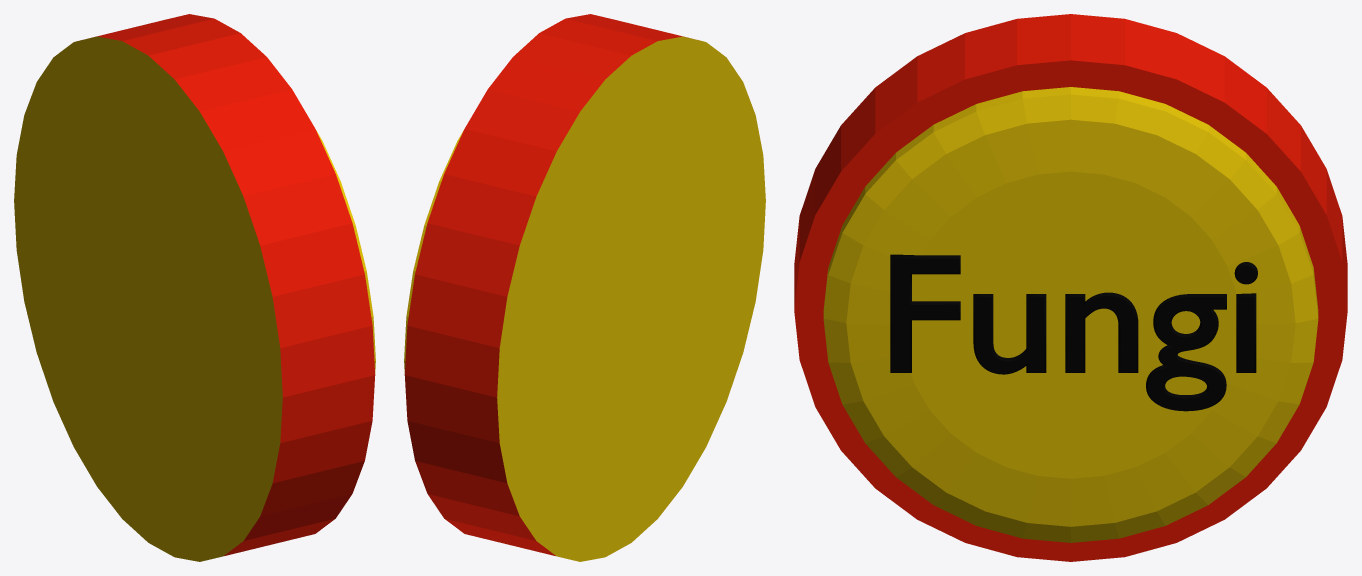
File: fungibutton.gltf
The picture shows the model from 3 angles, left to right: view 1: azimuth 30°, elevation 25°; view 2: azimuth 150°, elevation 25°; view 3: azimuth 270°, elevation 25°; orthographic projection. The views are drawn at different scales.
Parts seen in each view (by area): view 1: Cylinder.001; view 2: Cylinder.001; view 3: Cylinder.001, Text.
Boxes of the visible parts, x1=… form: Cylinder.001: x1=14, y1=14, x2=375, y2=561; Cylinder.001: x1=404, y1=14, x2=765, y2=561; Cylinder.001: x1=794, y1=14, x2=1347, y2=561; Text: x1=890, y1=254, x2=1257, y2=411.
Bounding box in the file's own units: 0.5314 × 2 × 2.
